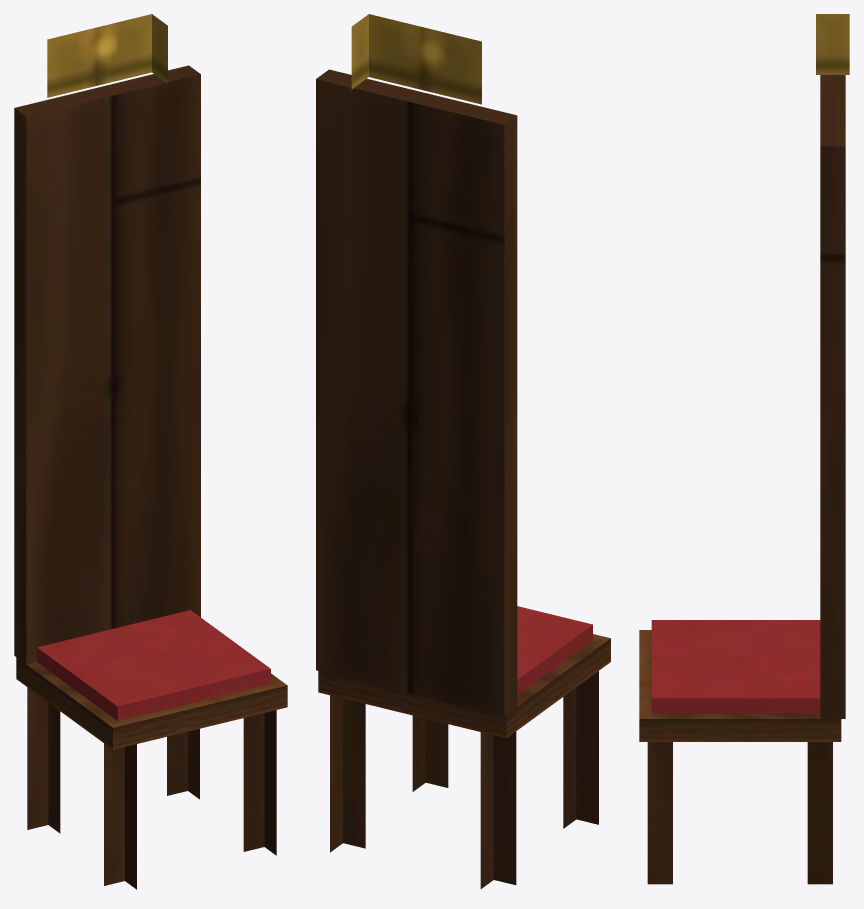
Rendered from high_chair.glb.
3 renders of one model, left to right at view 1: azimuth 30°, elevation 25°; view 2: azimuth 150°, elevation 25°; view 3: azimuth 270°, elevation 25°, orthographic. The views are drawn at different scales.
Visible parts, largest first — view 1: high_chair_mesh; view 2: high_chair_mesh; view 3: high_chair_mesh.
Boxes of the visible parts, left/top/right/bottom form: high_chair_mesh: left=14, top=14, right=287, bottom=889; high_chair_mesh: left=316, top=14, right=610, bottom=888; high_chair_mesh: left=639, top=14, right=849, bottom=884.
Bounding box in the file's own units: 0.5 × 2.13 × 0.5.
2 materials, 2 textured.
